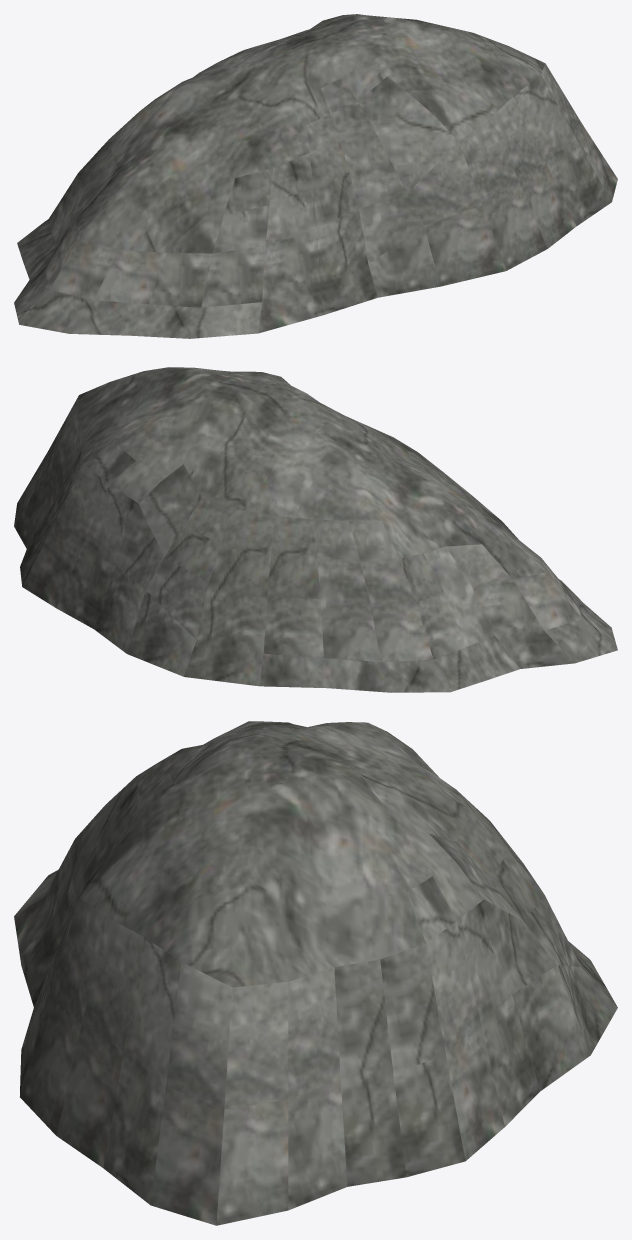
Rendered from nyc_rock_umpire.glb.
3 views of the same model, one above another, from view 1: azimuth 30°, elevation 25°; view 2: azimuth 150°, elevation 25°; view 3: azimuth 270°, elevation 25° (orthographic). The views are drawn at different scales.
Visible parts, largest first — view 1: nyc_rock_umpire; view 2: nyc_rock_umpire; view 3: nyc_rock_umpire.
Boxes of the visible parts, <box> form: nyc_rock_umpire: <box>14,14,617,338</box>; nyc_rock_umpire: <box>14,367,617,692</box>; nyc_rock_umpire: <box>14,721,617,1225</box>.
Bounding box in the file's own units: 19.28 × 6.02 × 11.38.
Materials: 1 (1 with a texture image).
